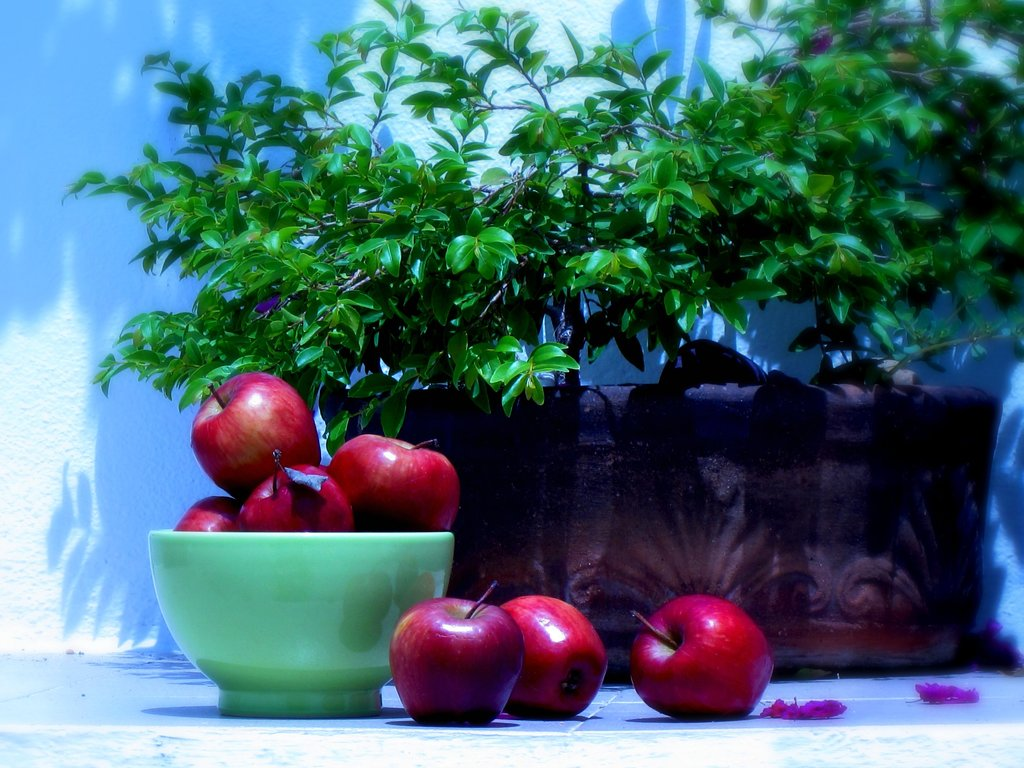Apple: (627, 591, 774, 718), (383, 600, 518, 732), (191, 370, 319, 501), (497, 590, 609, 717), (331, 430, 465, 531), (234, 449, 350, 536), (174, 496, 241, 531)
